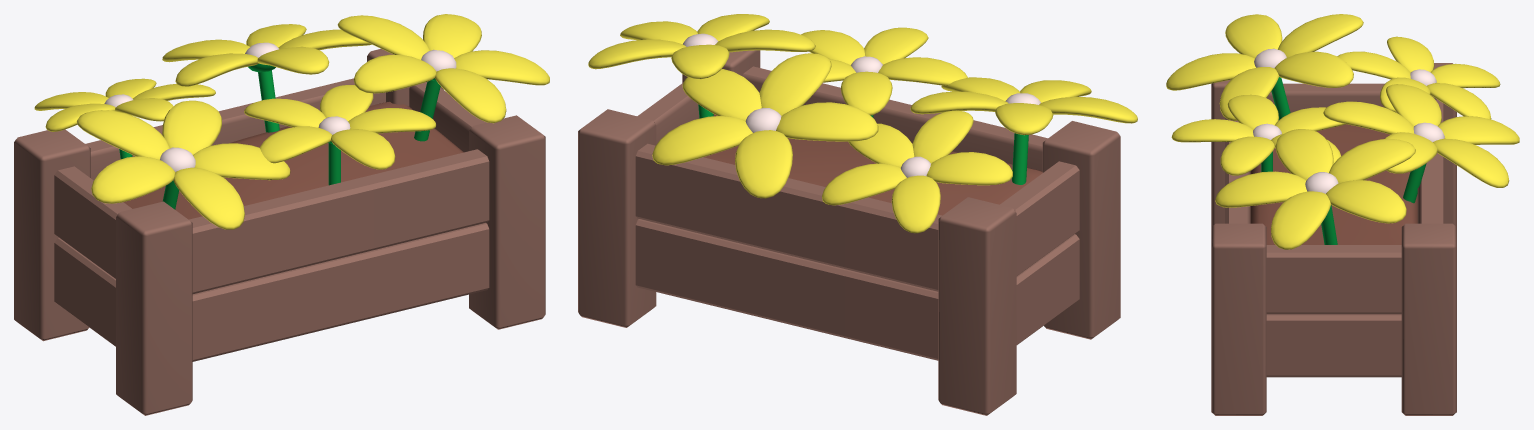
Rendered from Store_20_Box_With_Flowers_1.glb.
The picture shows the model from 3 angles, left to right: view 1: azimuth 30°, elevation 25°; view 2: azimuth 150°, elevation 25°; view 3: azimuth 270°, elevation 25°; orthographic projection. The views are drawn at different scales.
Visible parts, largest first — view 1: Store_20_Box_With_Flowers_1; view 2: Store_20_Box_With_Flowers_1; view 3: Store_20_Box_With_Flowers_1.
Part boxes in pixels (x1,y1,x2,y2): Store_20_Box_With_Flowers_1: (14,14,549,415); Store_20_Box_With_Flowers_1: (578,14,1137,415); Store_20_Box_With_Flowers_1: (1166,14,1519,415).
Size of the model in its own units: 0.9757 by 0.4895 by 0.6713.
1 material, 1 textured.
